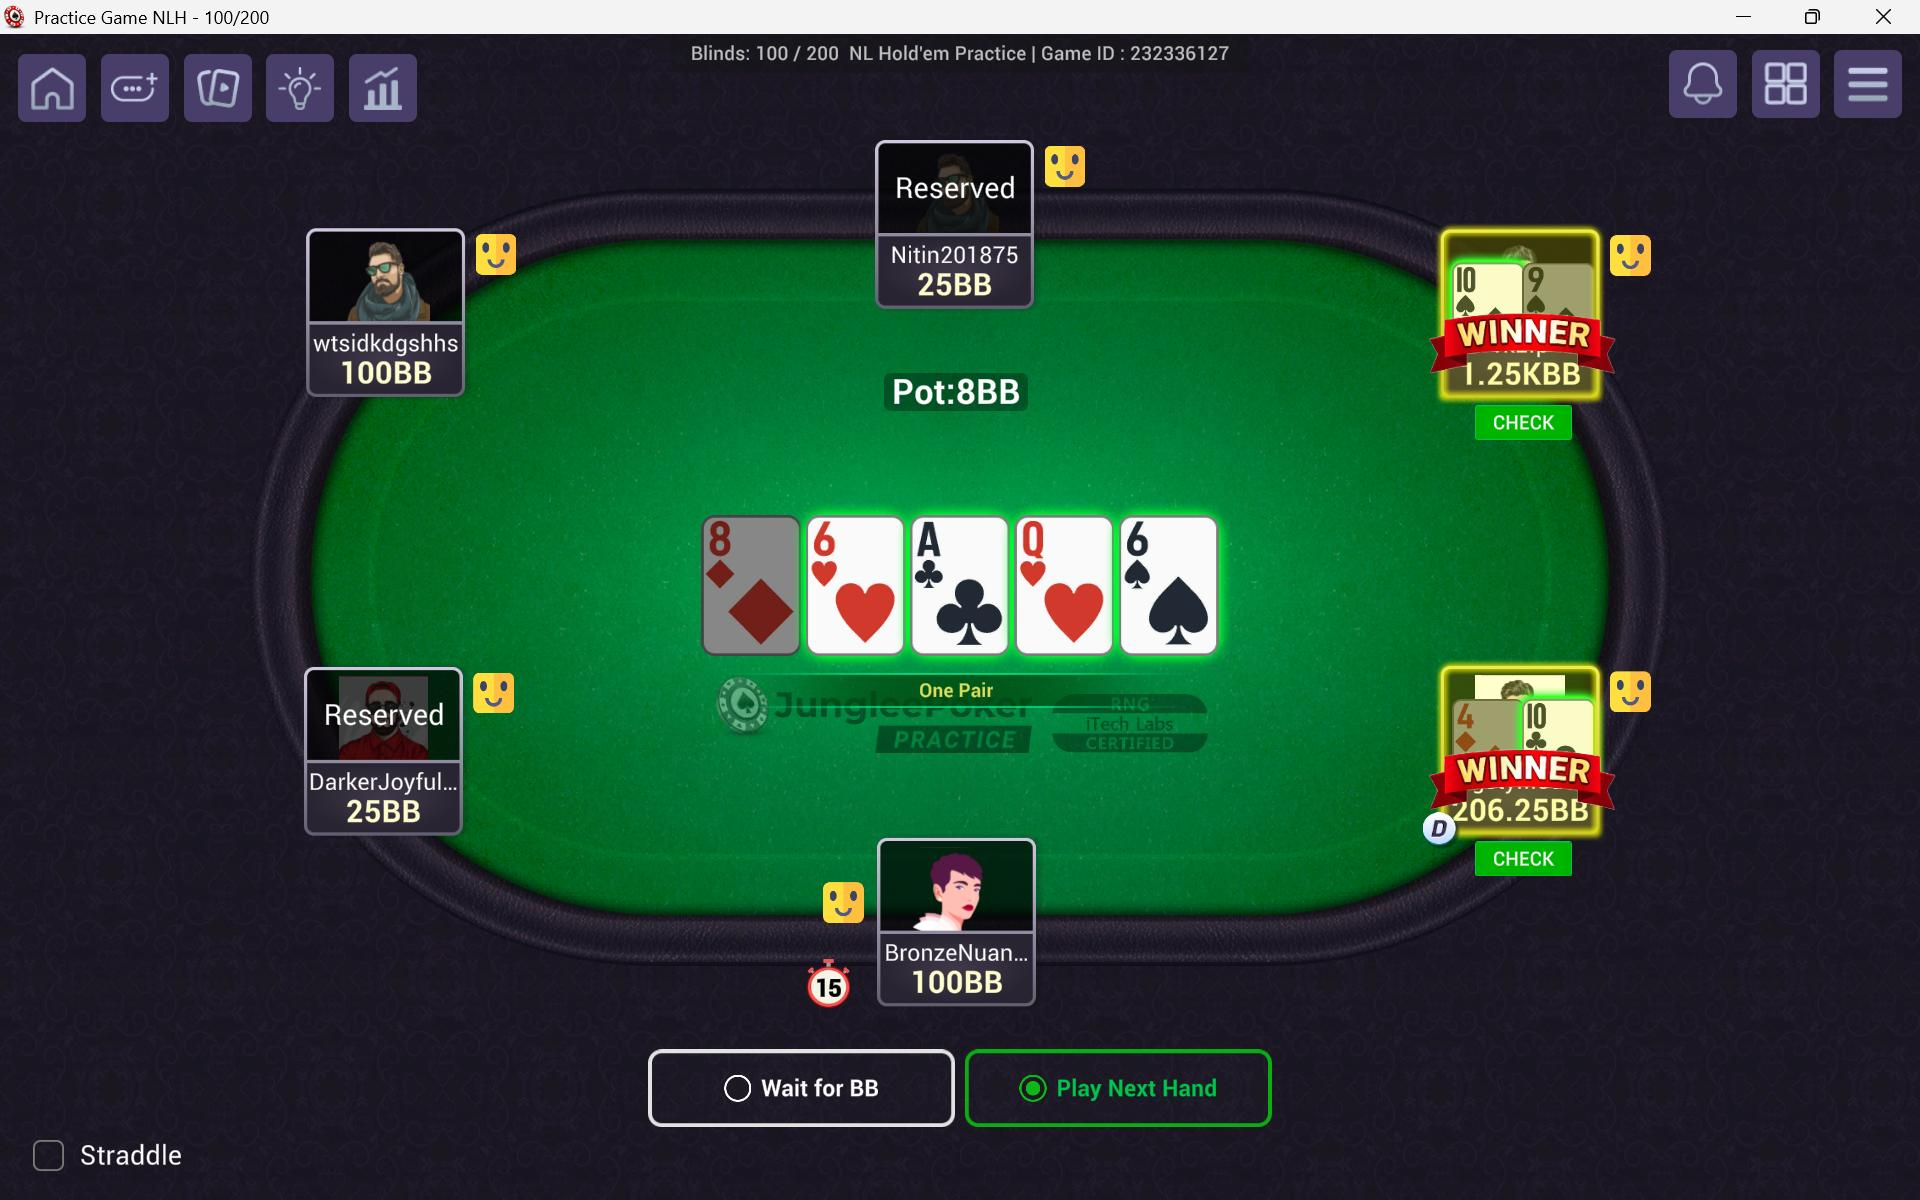flop1_rank: (702, 520, 767, 565)
flop1_suite_diamond: (720, 572, 800, 650)
flop2_rank: (804, 520, 853, 560)
flop2_suite_heart: (829, 567, 897, 650)
flop3_rank: (910, 517, 970, 565)
flop3_suite_club: (933, 578, 1005, 647)
my_stack: (897, 959, 1017, 1005)
river_rank: (1122, 517, 1185, 565)
river_suite_spades: (1145, 570, 1218, 655)
total_pot: (885, 368, 1030, 412)
turn_rank: (1017, 516, 1073, 570)
turn_suite_heart: (1035, 567, 1107, 650)
villian1_name: (307, 763, 463, 795)
villian1_stack: (335, 780, 430, 828)
villian2_name: (307, 325, 467, 353)
villian2_stack: (335, 353, 452, 395)
villian3_name: (881, 229, 1027, 265)
villian3_stack: (903, 267, 1005, 306)
winner: (1443, 228, 1610, 400), (1440, 665, 1602, 835)
